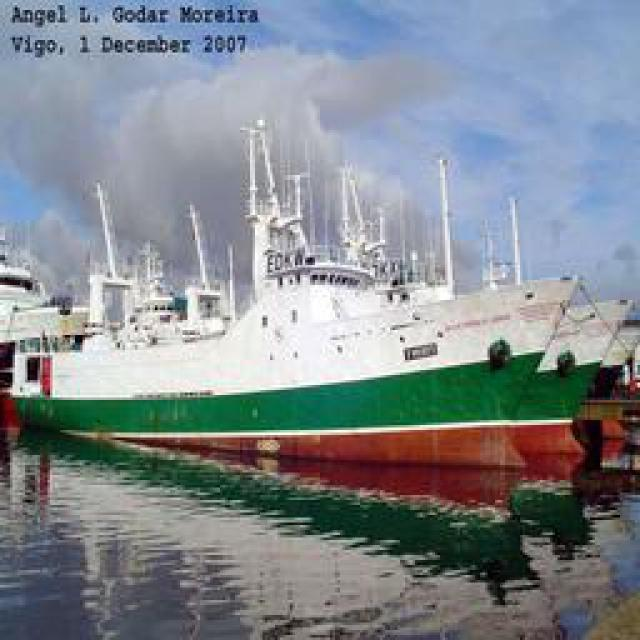Ship: (20, 106, 630, 466)
